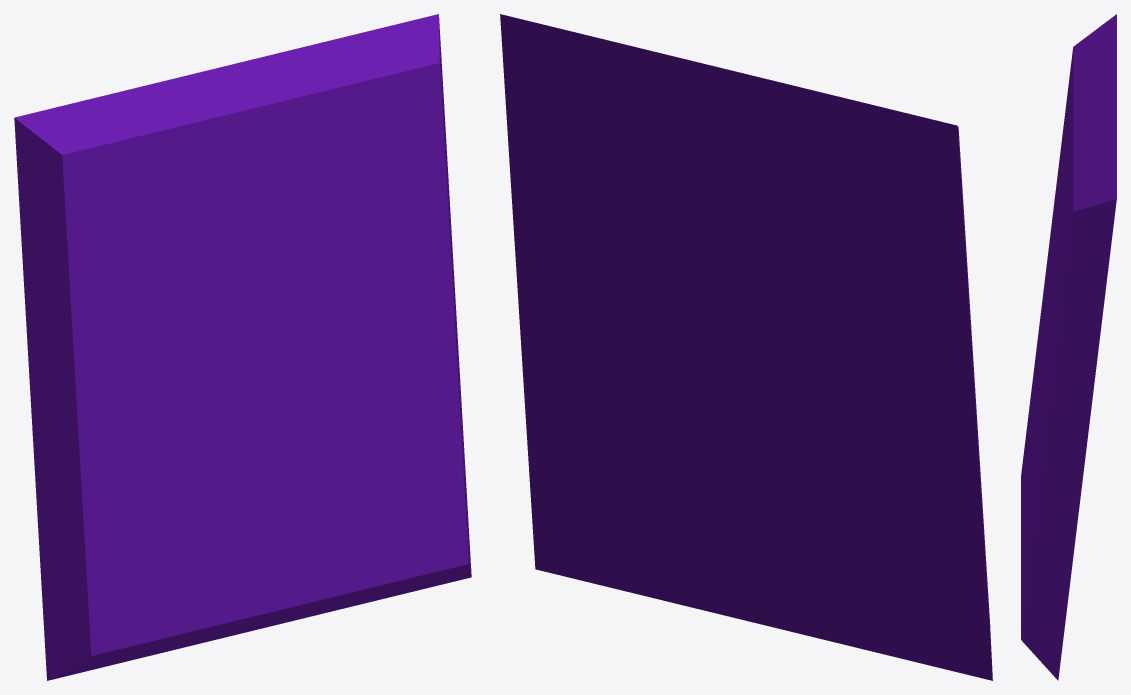
Rendered from SeatPouch_108.003.fbx.
3 renders of one model, left to right at view 1: azimuth 30°, elevation 25°; view 2: azimuth 150°, elevation 25°; view 3: azimuth 270°, elevation 25°, orthographic. The views are drawn at different scales.
Visible parts, largest first — view 1: SeatPouch_108.003; view 2: SeatPouch_108.003; view 3: SeatPouch_108.003.
Part boxes in pixels (left/top/right/bottom): SeatPouch_108.003: left=14, top=14, right=471, bottom=680; SeatPouch_108.003: left=500, top=14, right=992, bottom=680; SeatPouch_108.003: left=1021, top=14, right=1116, bottom=680.
Bounding box in the file's own units: 275 × 334 × 60.11.
